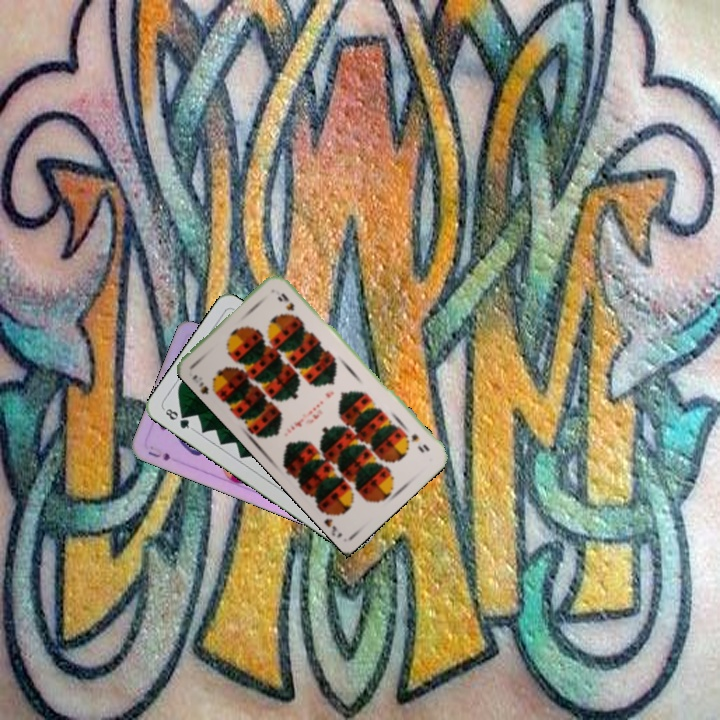G8: (160, 404, 196, 432)
S9: (188, 371, 222, 398), (407, 429, 432, 454)
SU: (144, 447, 173, 463)
